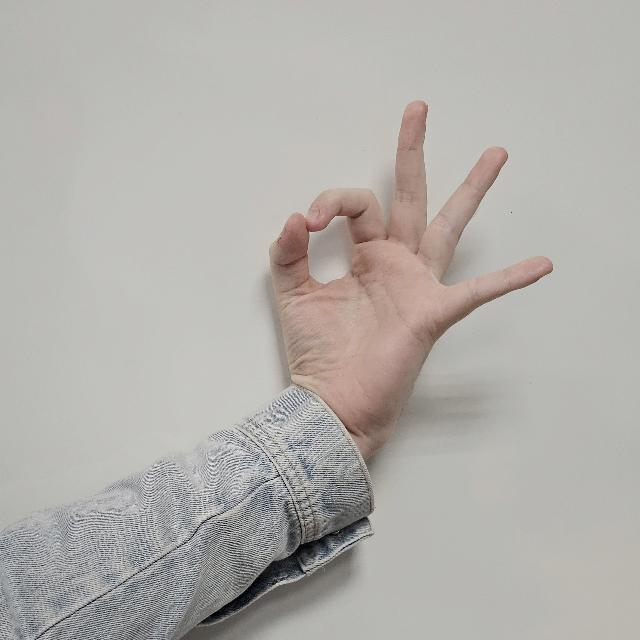Bolinha: (261, 93, 559, 470)
